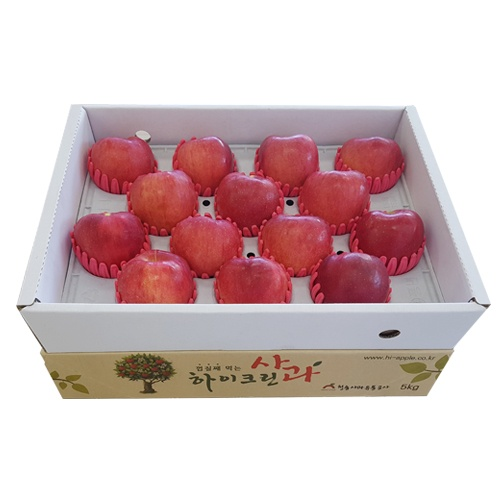apple: (350, 207, 428, 280), (296, 167, 368, 239), (212, 172, 284, 233), (129, 168, 197, 230), (338, 130, 403, 194), (316, 252, 391, 307), (259, 211, 327, 270), (116, 250, 191, 303), (86, 134, 161, 187), (73, 212, 147, 265), (173, 215, 238, 275), (173, 133, 232, 199), (213, 256, 290, 304), (258, 133, 320, 189)
